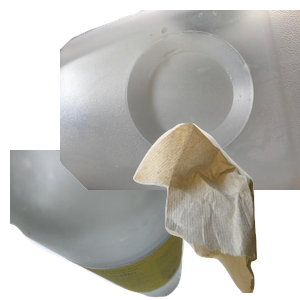glass: (10, 150, 190, 300)
metal: (73, 34, 285, 214)
plastic: (60, 10, 300, 190)
trash: (131, 120, 300, 300)
